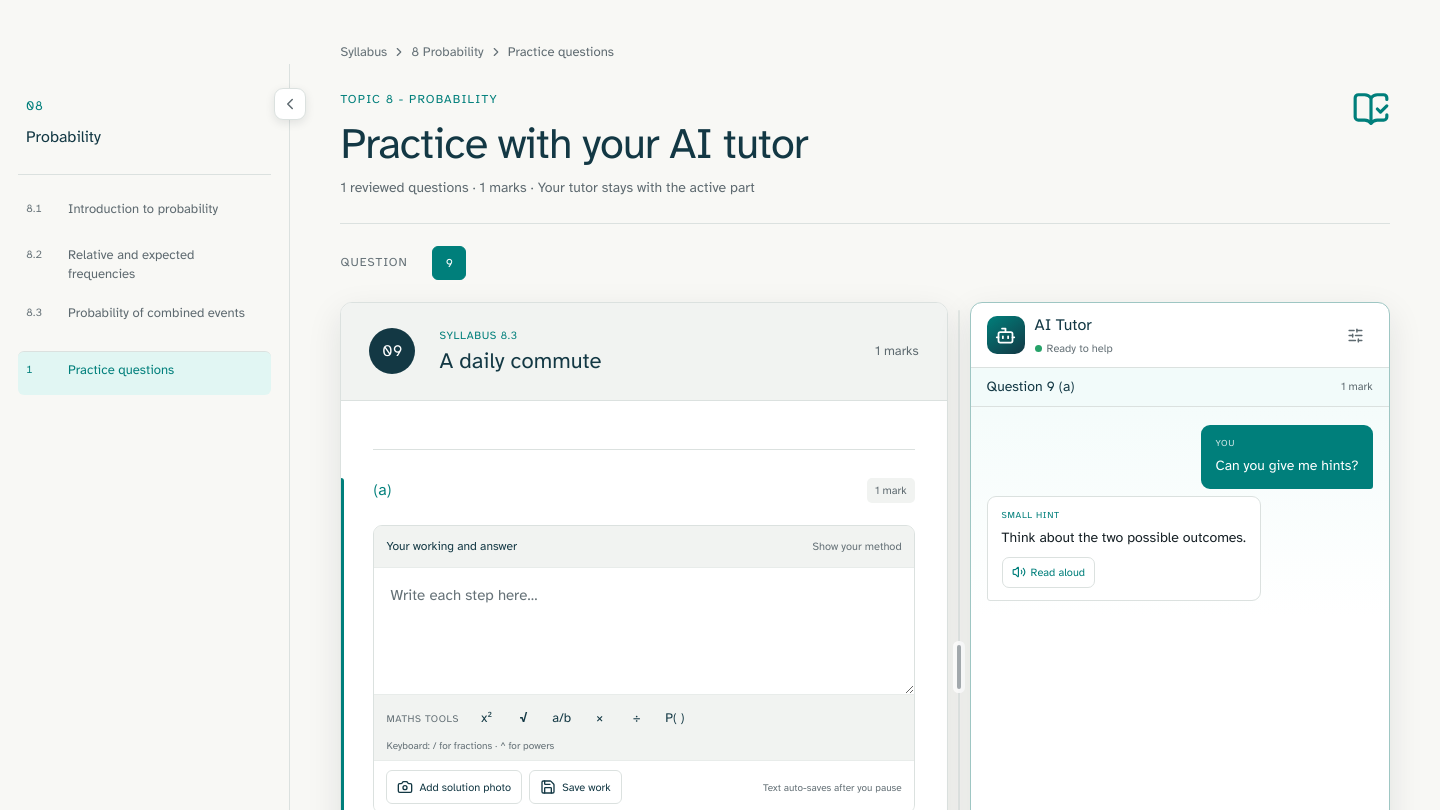
Test: voice settings stay out of the conversation and can be dismissed with Escape
Check: the text "Think about the two possible outcomes." is shown, box [1002,526,1246,549]
Check: the dropdown labelled "Tutor voice" is not shown
Click the button named "Voice settings" at [1356, 335], box [1339,318,1373,352]
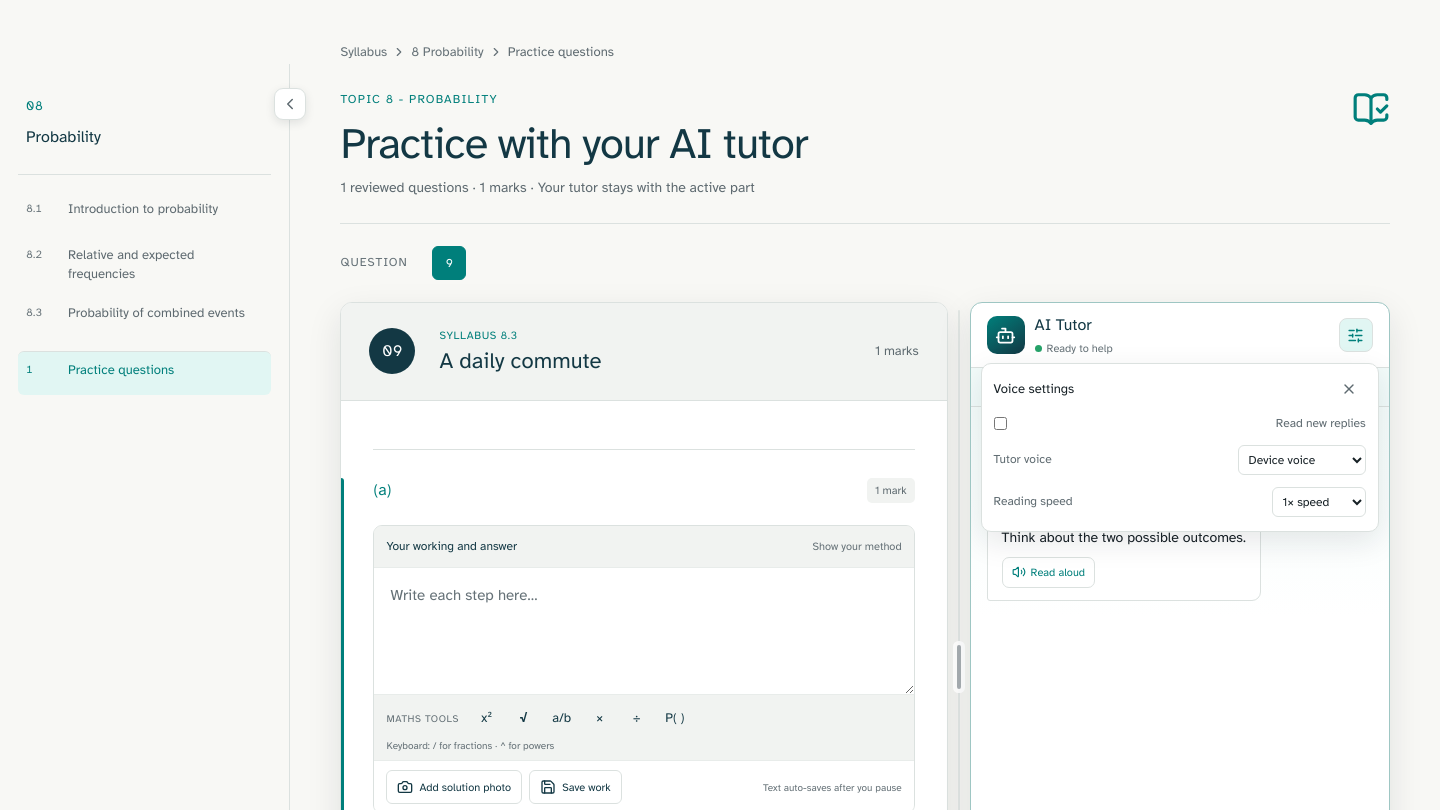
Check: the dropdown labelled "Tutor voice" shows "Device voice", box [1238,445,1366,475]
Press Escape
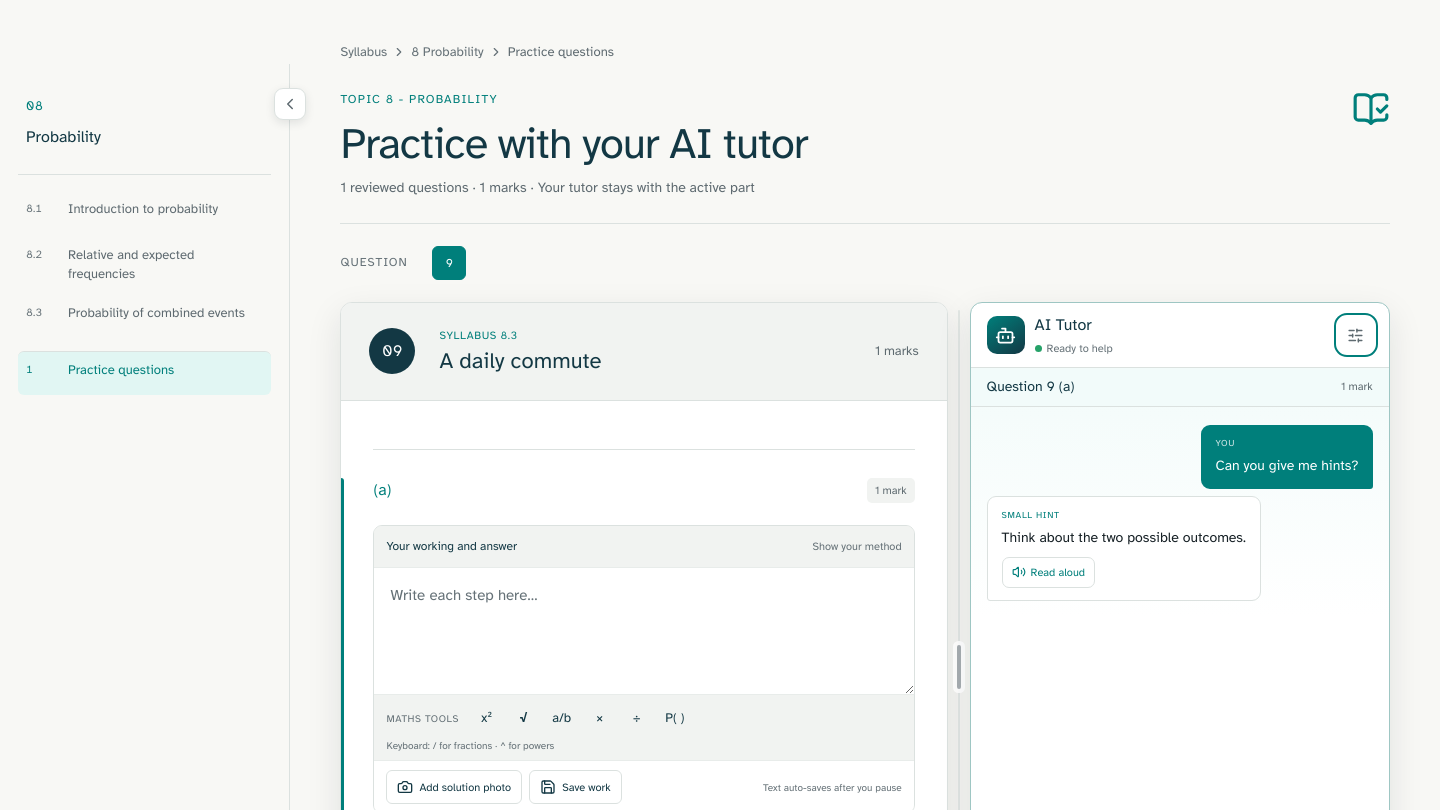
Check: the text "Tutor voice" is gone
Check: the button named "Voice settings" is collapsed, box [1339,318,1373,352]
